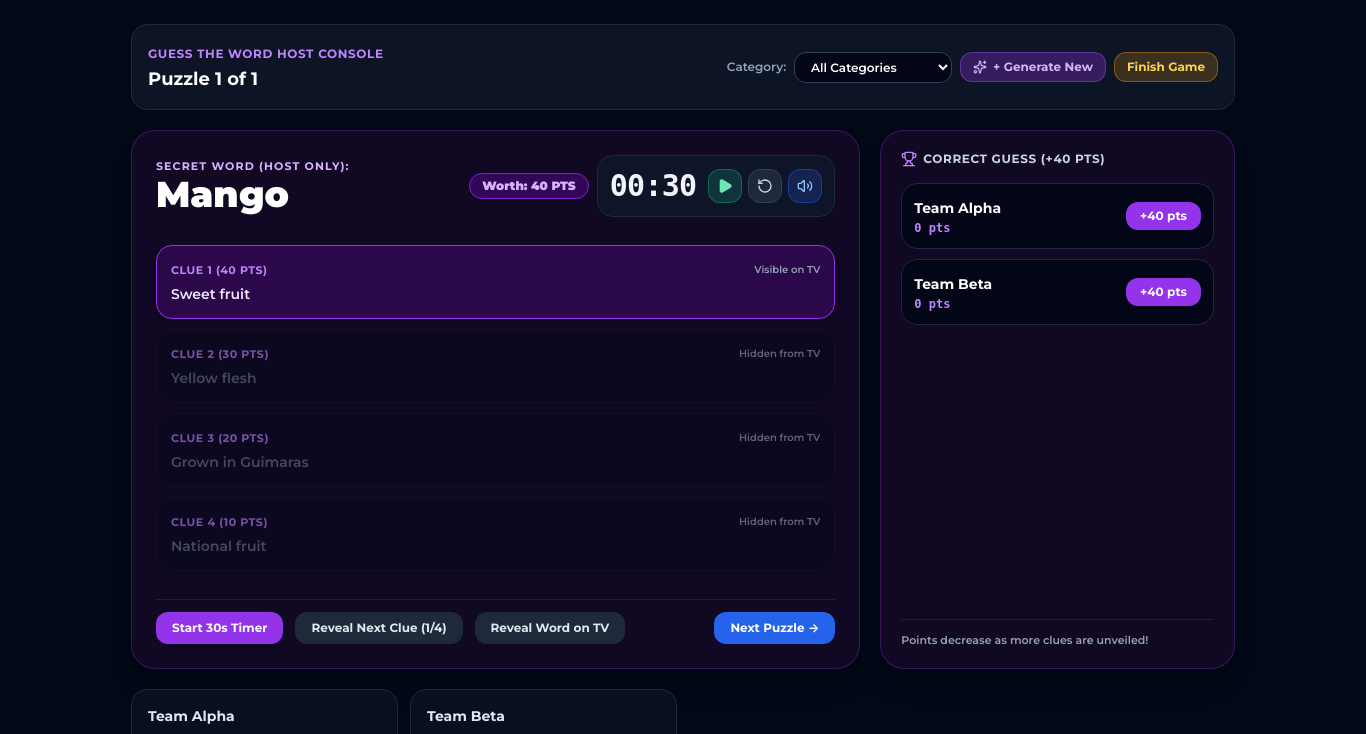
Test: Audit Regression Suite: Content Generator & All 15 Hub/Battle Games › Original 5 Hub Party Games › GuessWordHostView filters + Generate New safely and prevents double-scoring a puzzle
What coordinates should you click on to do the following:
click the 1st button "+40 pts"
I would click on:
 (1164, 216)
Its box is [1126,202,1201,230].
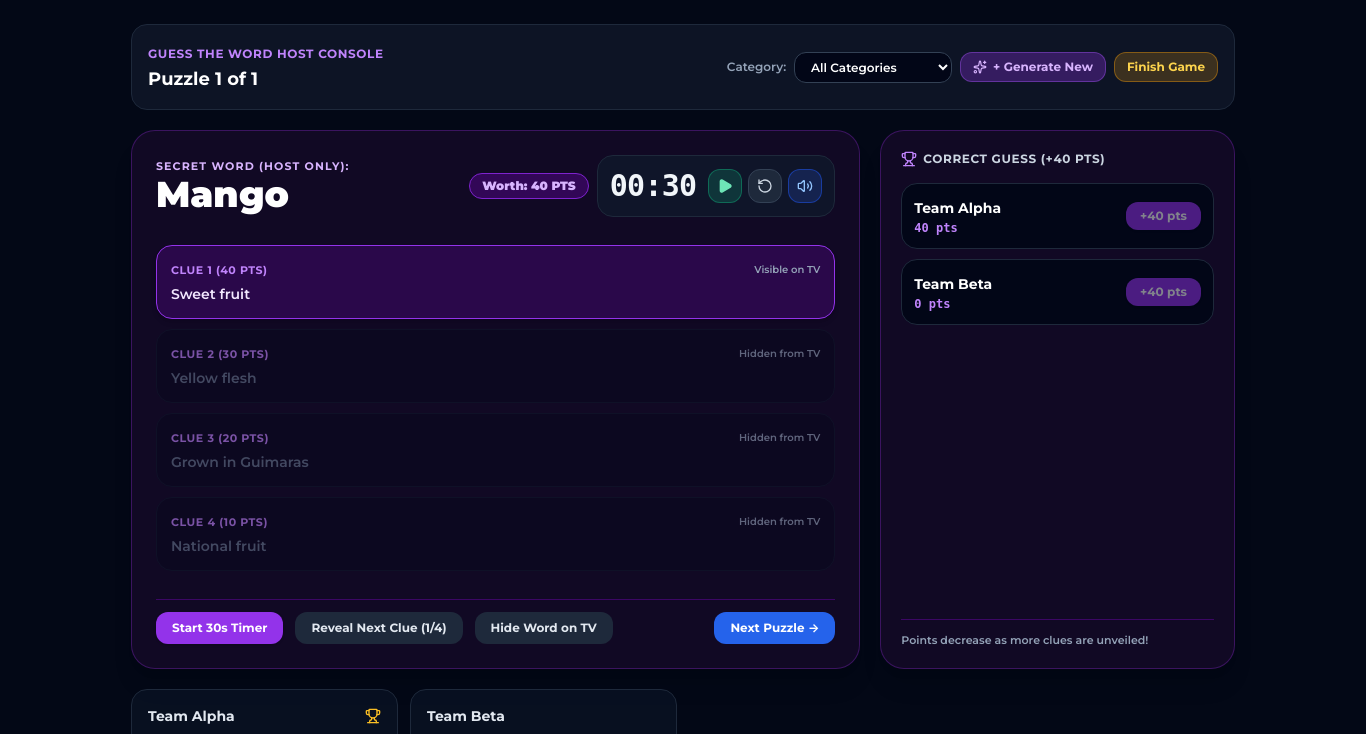
Expected: the 1st button "+40 pts" is disabled, [1126,202,1201,230]
Expected: the 2nd button "+40 pts" is disabled, [1126,278,1201,306]
